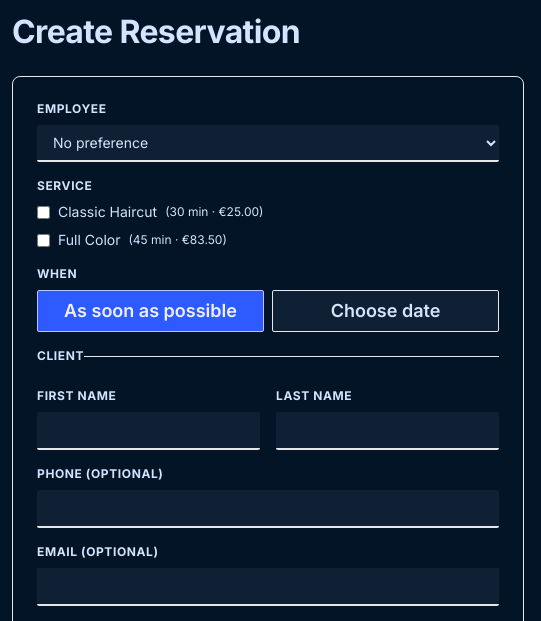
Test case: CreateReservation (crear) › GET /availability ASAP: employeeId + duration sin from/to
Select "Employee Demo" in the dropdown labelled "Employee" at (268, 144), box [37,125,499,162]
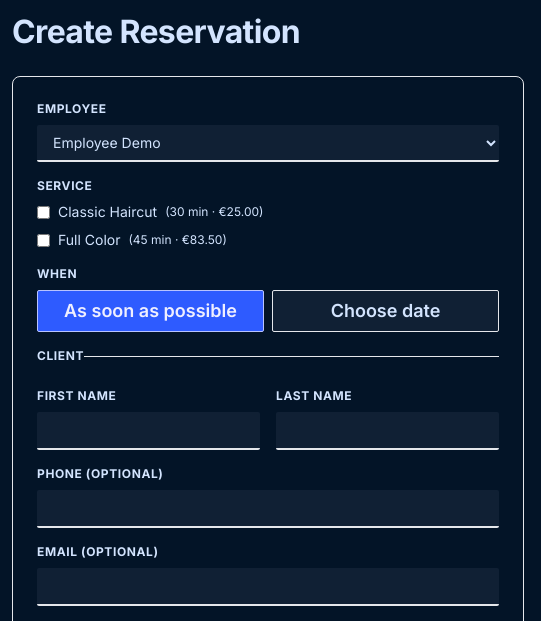
Click the checkbox labelled "Classic Haircut (30 min · €25.00)".
click(44, 212)  # box [37,206,50,218]
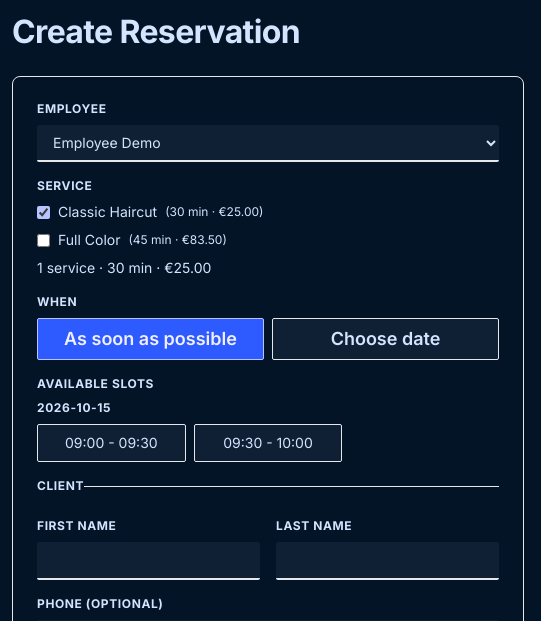
Check: the text "09:00 - 09:30" is shown, box [65,434,158,451]
